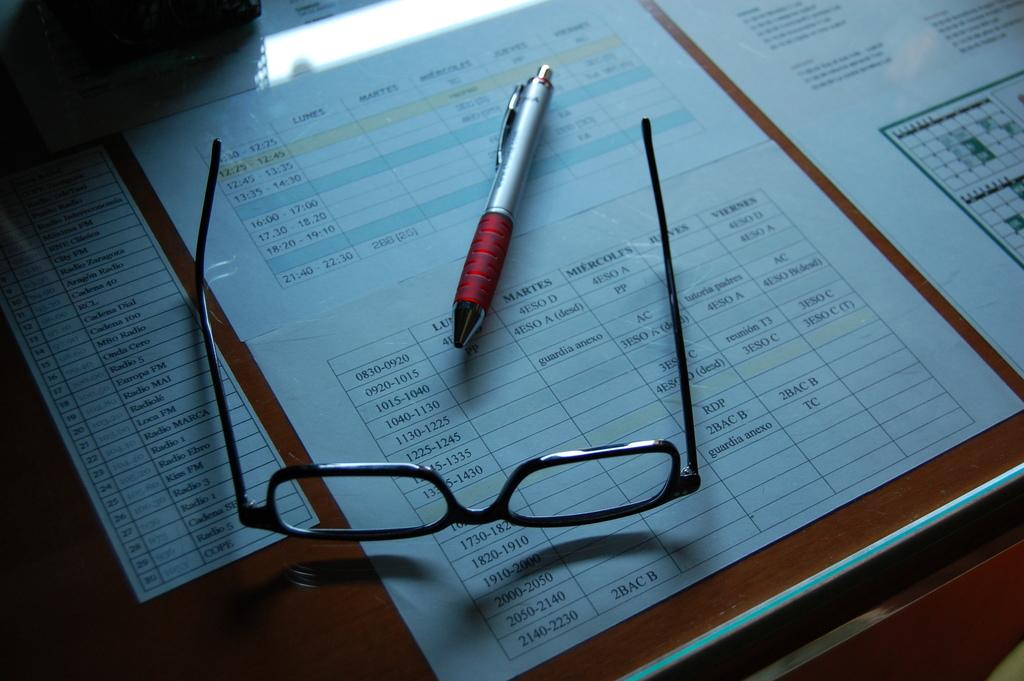pen: (450, 63, 553, 349)
